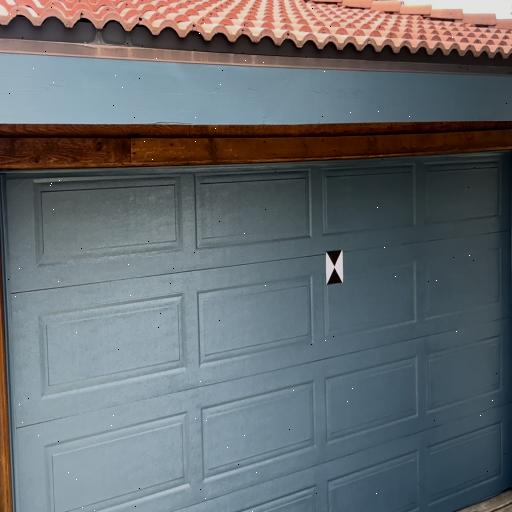target: (326, 252, 344, 284)
